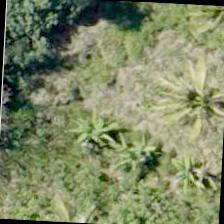Kelapa_Sawit: (160, 54, 223, 148)
